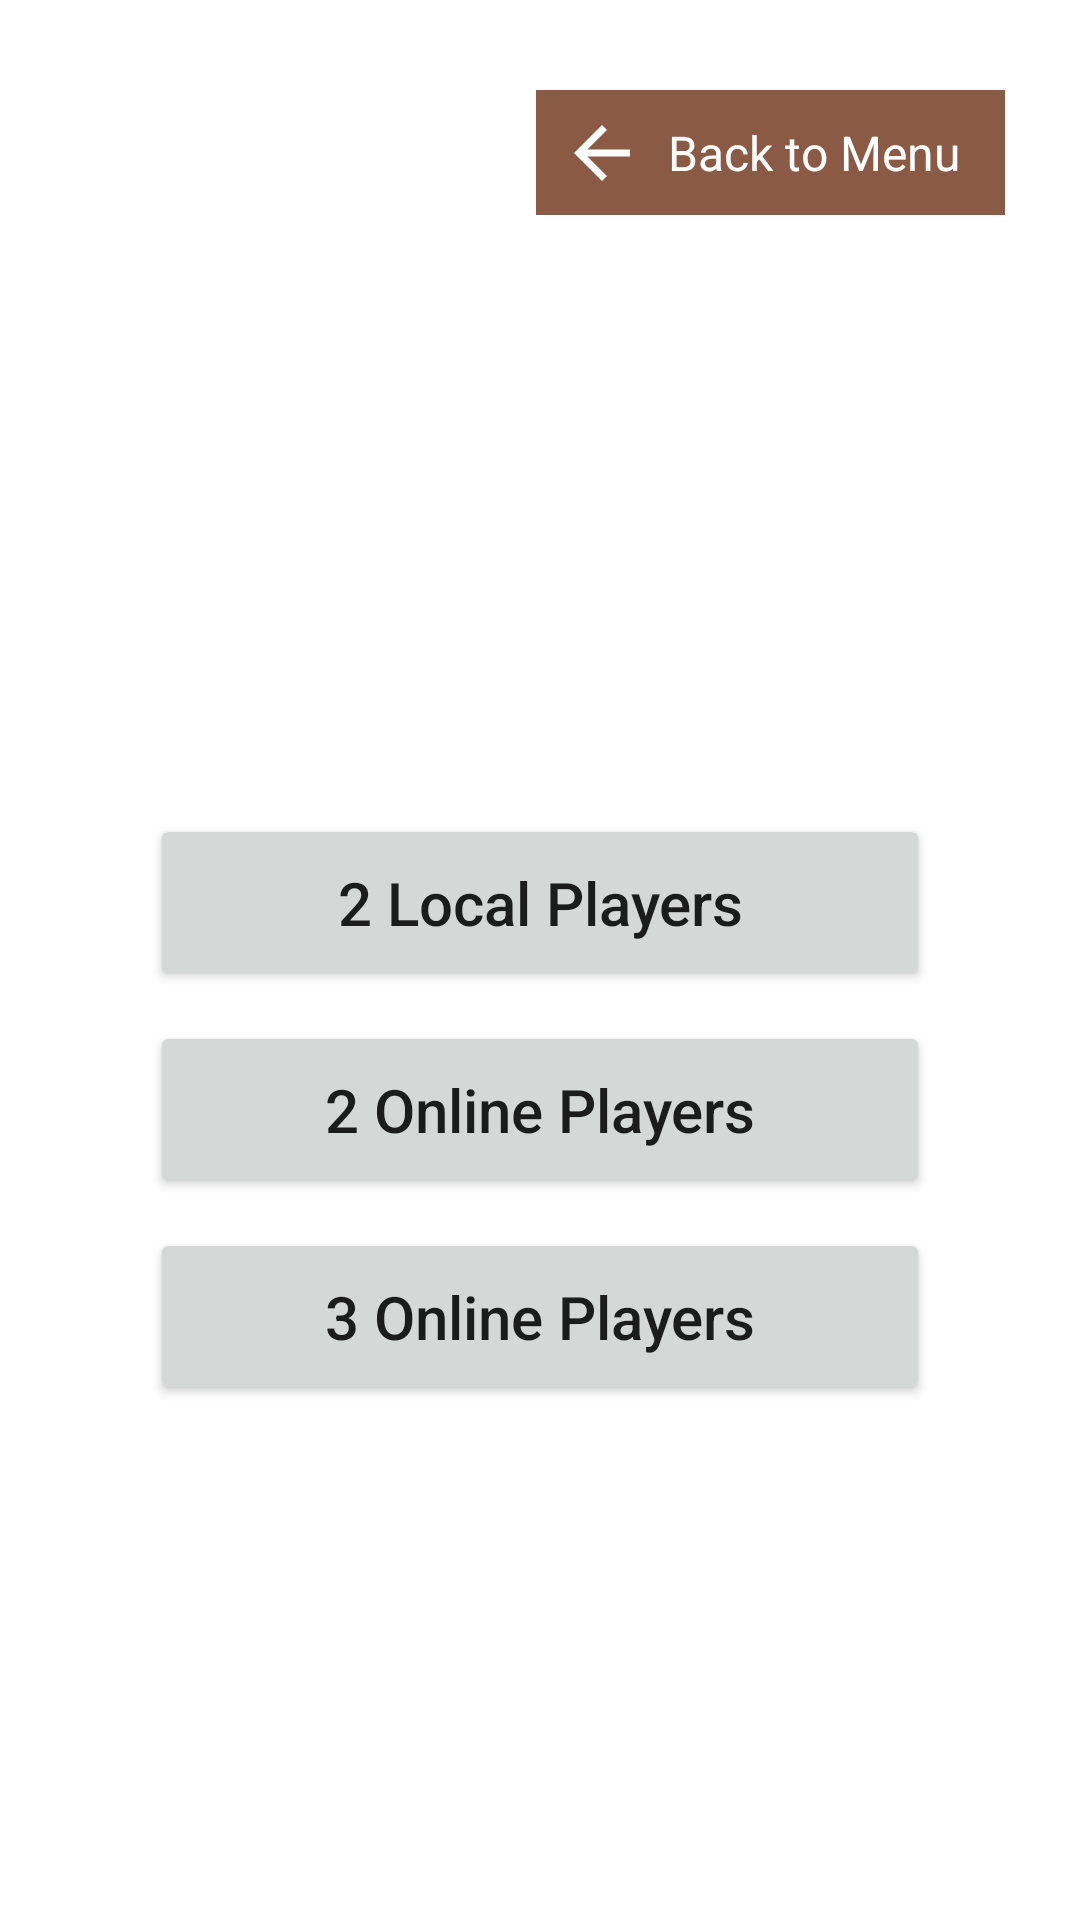

Icons on this 1080x1920 Android screen, each with its box as (x1, y1, x2, y2):
seta anterior: (536, 90, 668, 215)
